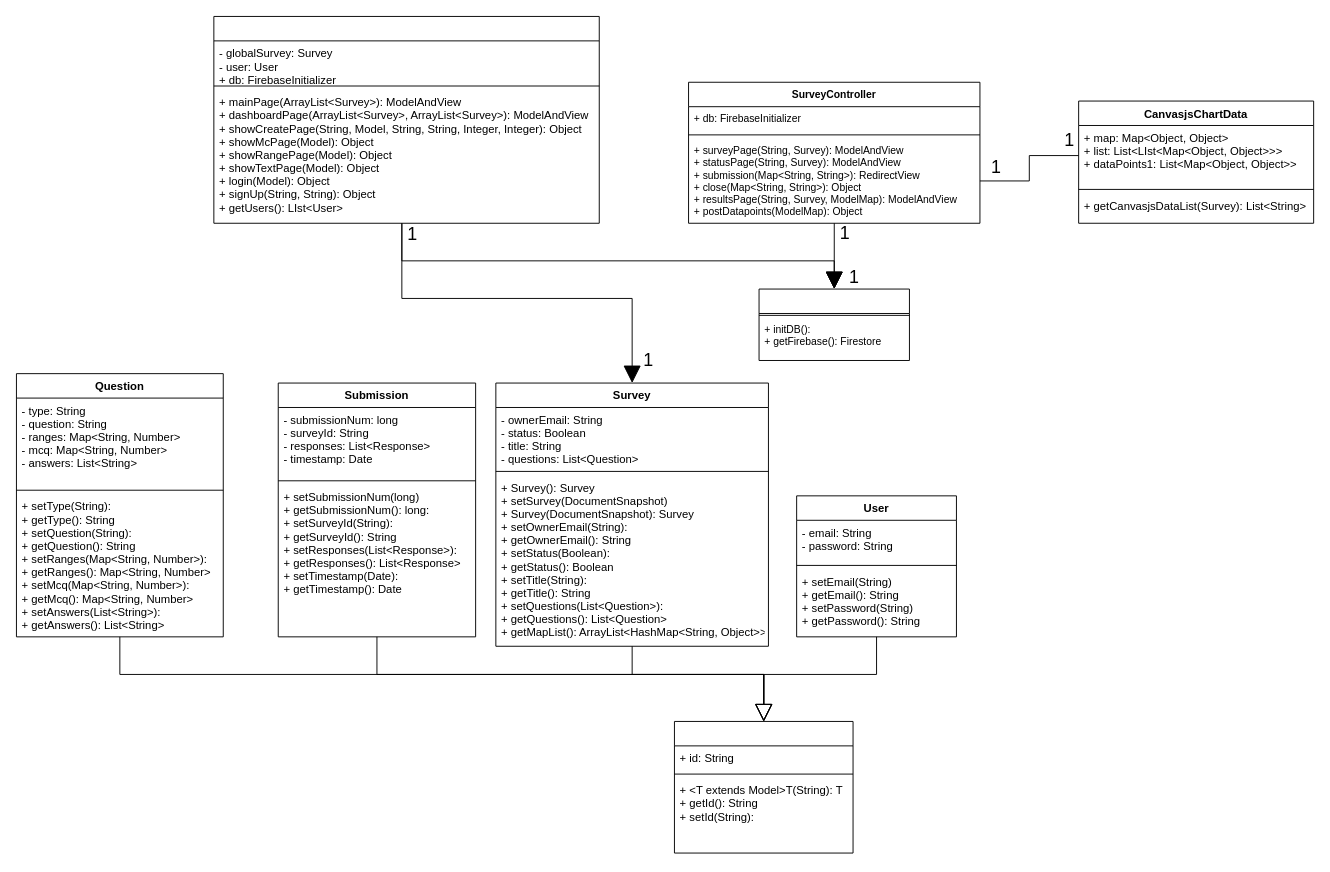
Image size: 1330x872. Some labels were removed from this diagram. Each missing label, with the box of its shape:
FirebaseInitializer: (758, 288, 909, 360)
IndexController: (213, 16, 599, 223)
Model: (674, 721, 853, 853)
